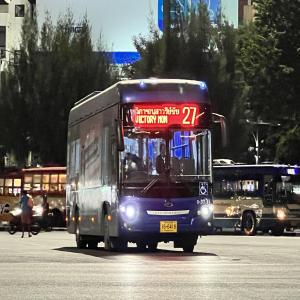BMTA-bus: (213, 161, 300, 237), (0, 165, 66, 231)
Bus Line Number: (182, 104, 198, 126)
Bus Side Number: (196, 198, 212, 206)
Destination Sign: (133, 105, 180, 125)
TSB-Bus: (65, 78, 215, 253)
